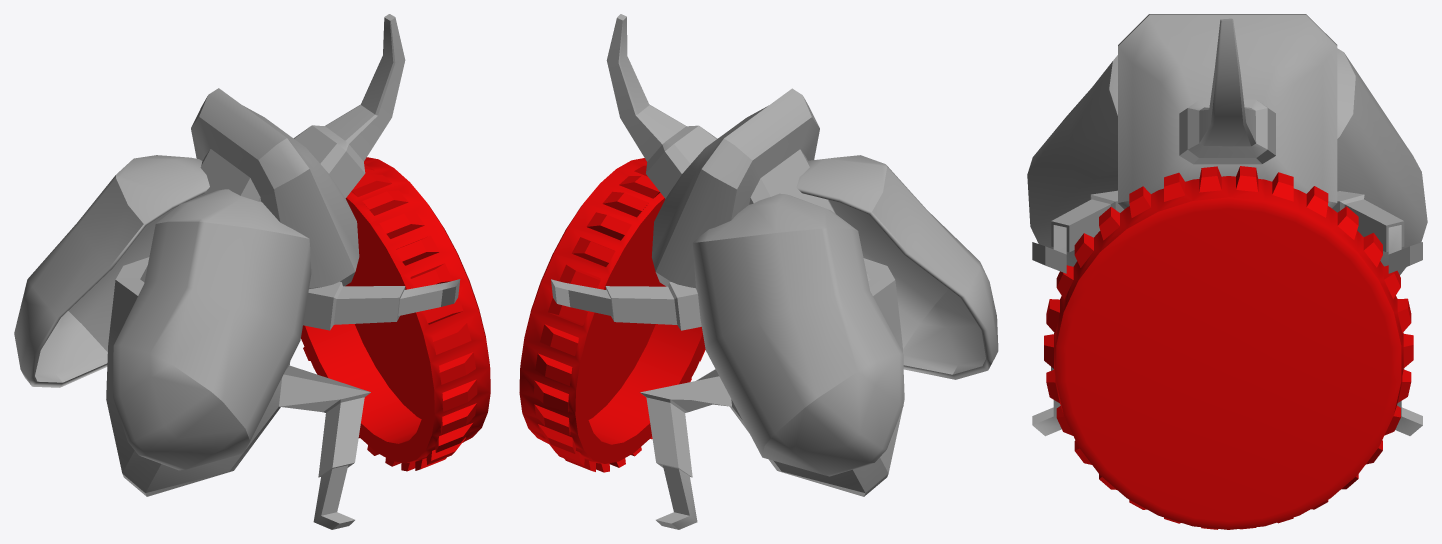
File: BottleCap_Beetle.fbx
3 views of the same model, side by side, from view 1: azimuth 30°, elevation 25°; view 2: azimuth 150°, elevation 25°; view 3: azimuth 270°, elevation 25° (orthographic). The views are drawn at different scales.
Parts seen in each view (by area): view 1: pCube21, pCube20, pCylinder3; view 2: pCube21, pCube20, pCylinder3; view 3: pCylinder3, pCube20, pCube21.
Part boxes in pixels (x1,y1,x2,y2): pCube21: (14,155,311,470); pCube20: (106,14,460,529); pCylinder3: (301,157,490,471); pCube21: (692,155,998,476); pCube20: (551,14,904,529); pCylinder3: (519,158,705,472); pCylinder3: (1044,166,1413,529); pCube20: (1032,14,1422,436); pCube21: (1027,48,1427,274).
Size of the model in its own units: 4.27 by 4.9 by 3.51.
